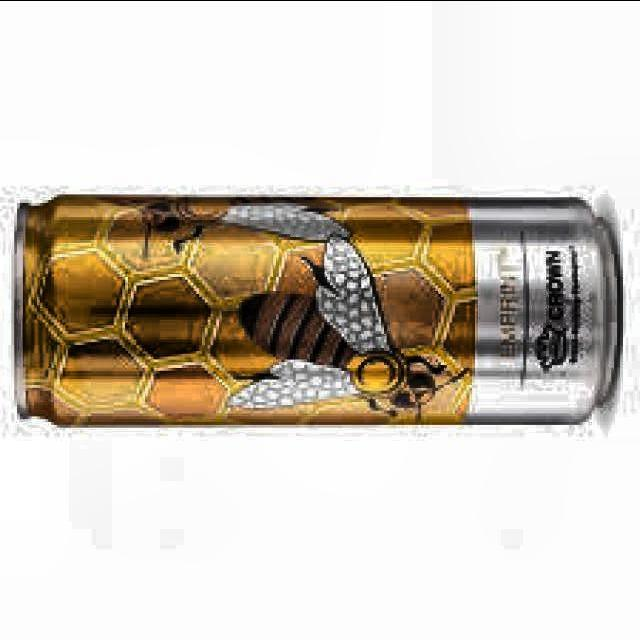Aluminum Can: (1, 183, 622, 434)
